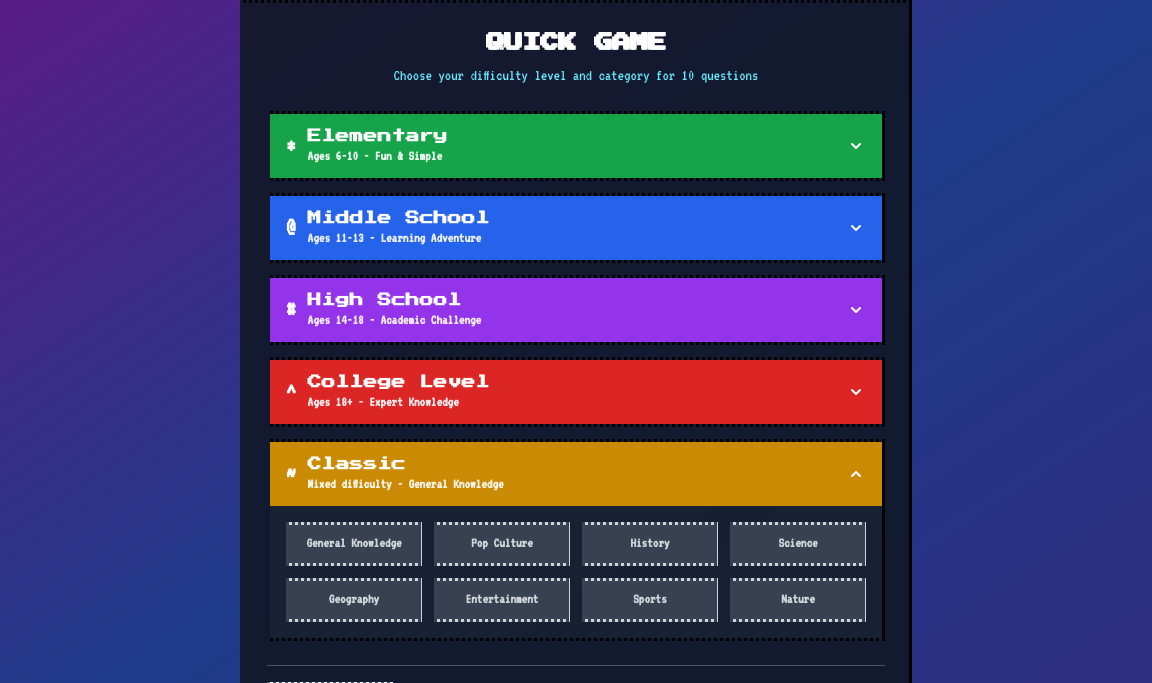
Test: QuickGameSelector › difficulty levels › should display College Level categories when expanded
This screenshot has width=1152, height=683.
Click the button "^ College Level Ages 18+ - Expert Knowledge".
click(399, 382)  # box x1=270 y1=360 x2=882 y2=424
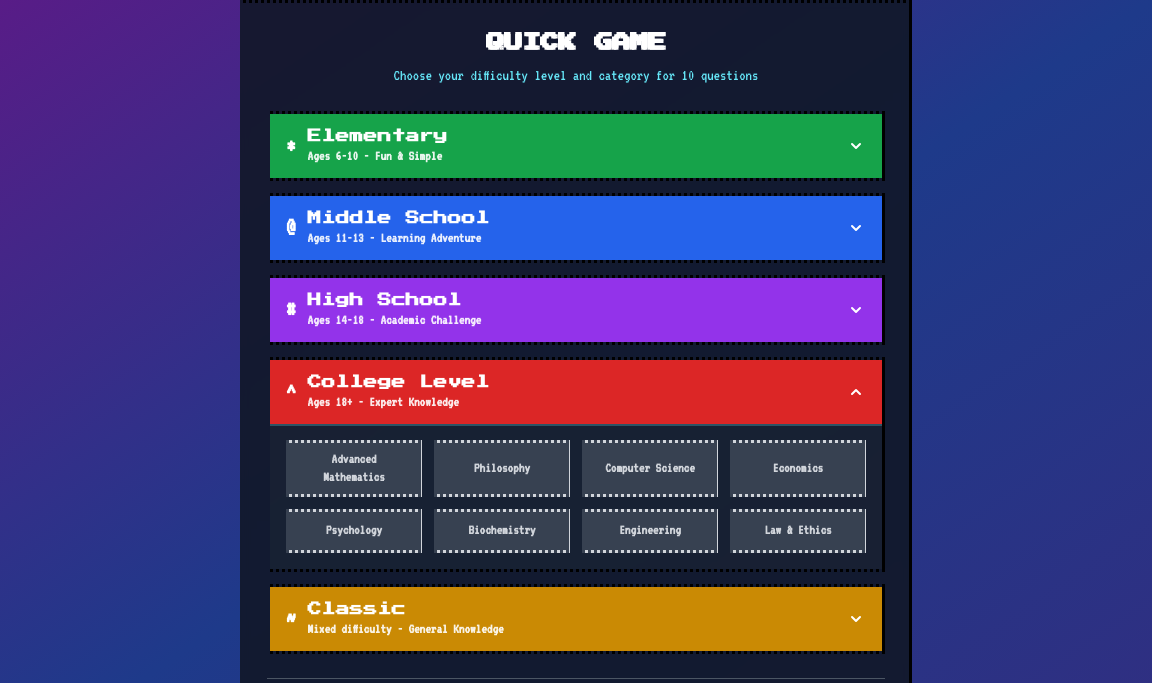
Check: the text "Advanced Mathematics" is shown, box x1=323 y1=452 x2=385 y2=484
Check: the text "Philosophy" is shown, box x1=474 y1=461 x2=530 y2=475
Check: the text "Computer Science" is shown, box x1=605 y1=461 x2=695 y2=475
